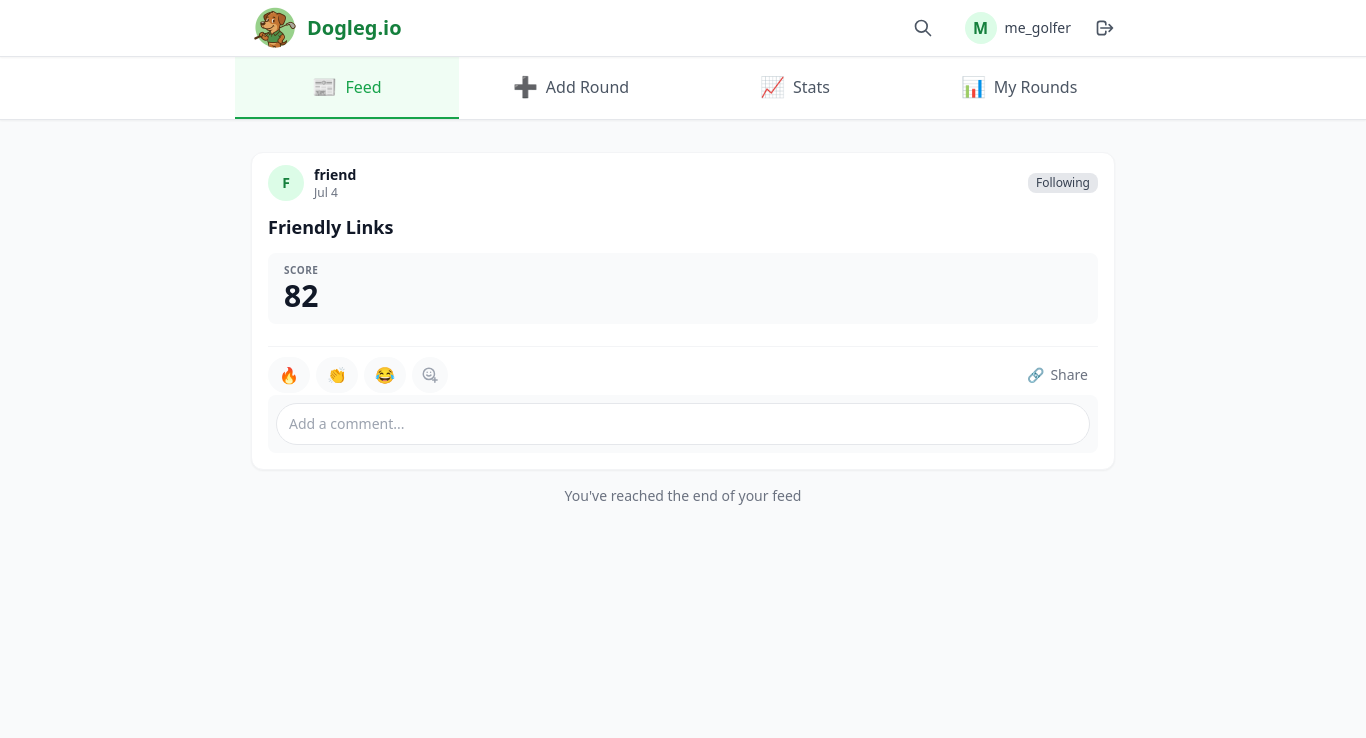
Scenario: the Feed after visiting other pages (SHELL-1) › following another golfer puts their round in a Feed that already had rounds
Expected: the element that starts with "friend" is shown, [251, 152, 1115, 470]
Click the link named "Search users". click: click(923, 28)
box: [913, 18, 933, 38]
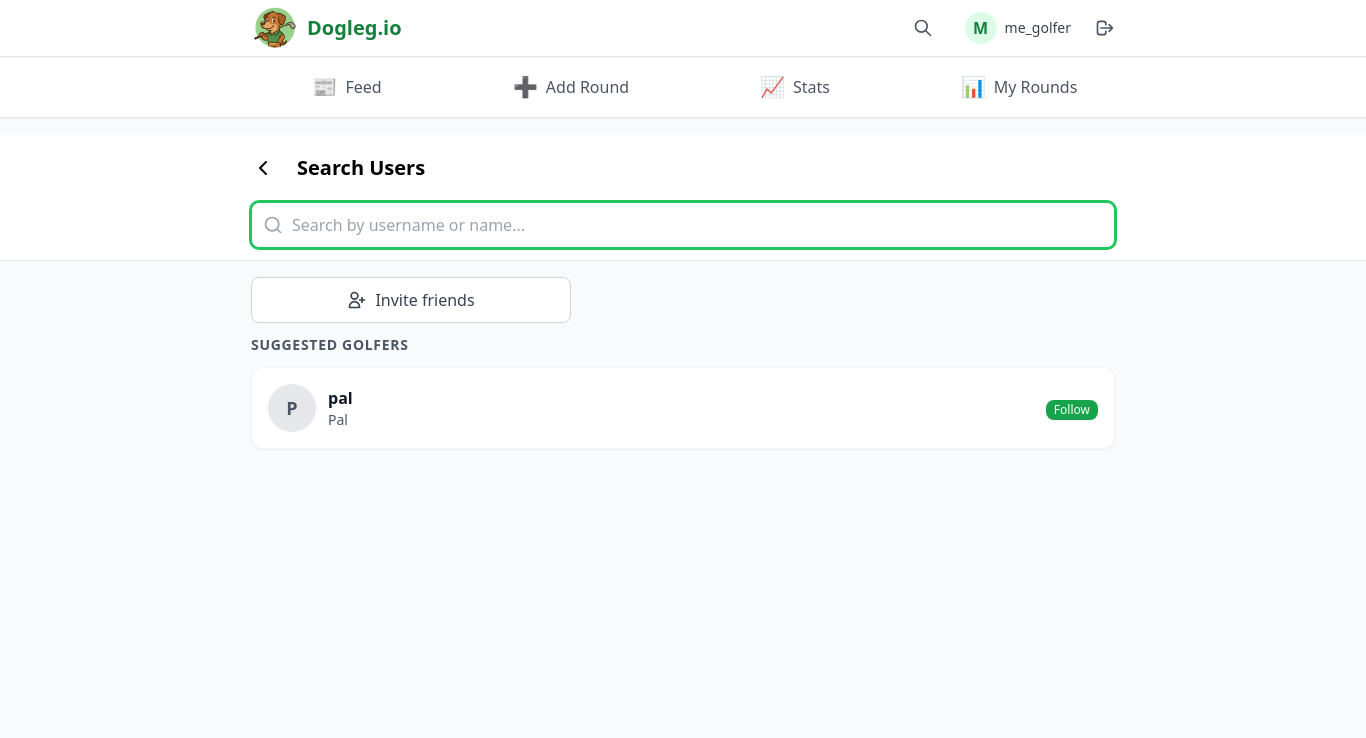
Now the heading "Suggested golfers" is shown, box [251, 335, 409, 354]
Click the button "Follow". click: click(1072, 410)
box: [1046, 400, 1098, 420]
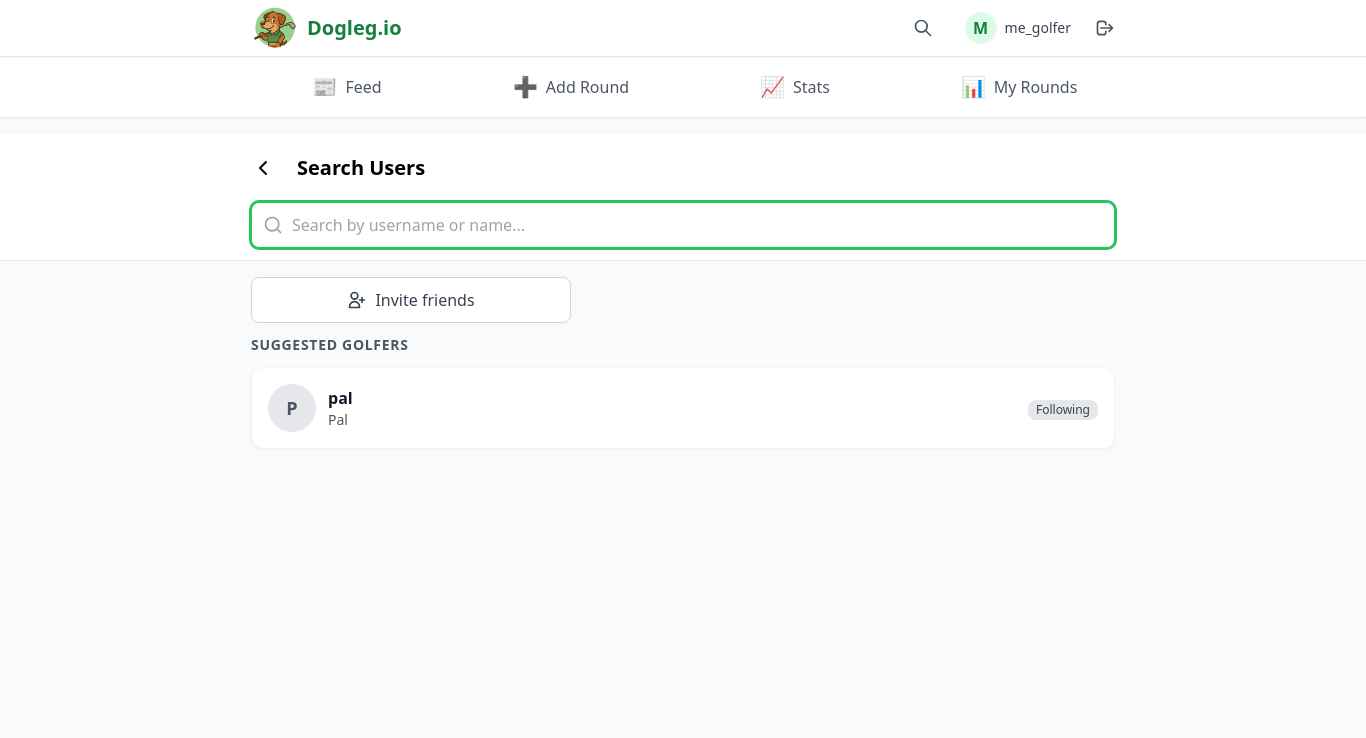
Now the button "Following" is shown, box [1028, 400, 1098, 420]
// The search page's own back chevron
Click the button named "Go back". click: click(263, 168)
box: [241, 146, 285, 190]
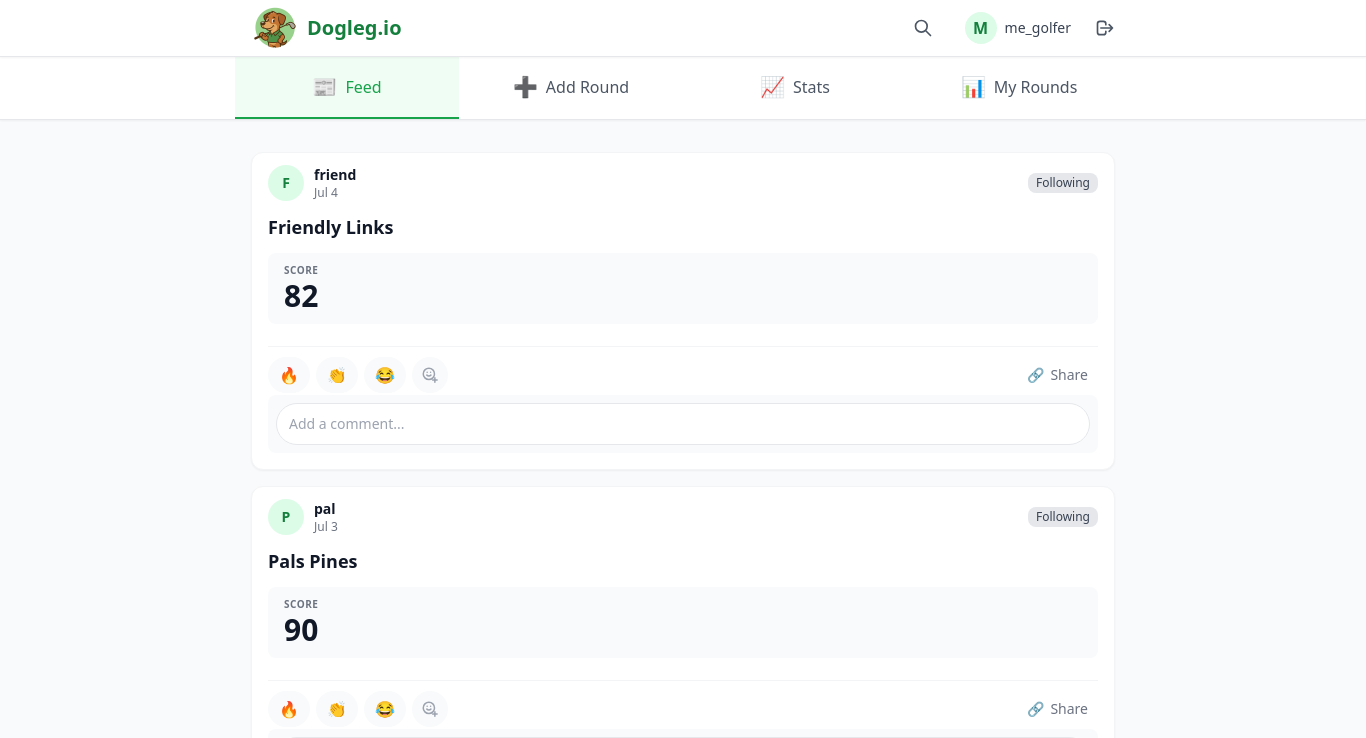
Now the element that starts with "friend" is shown, box [251, 152, 1115, 470]
